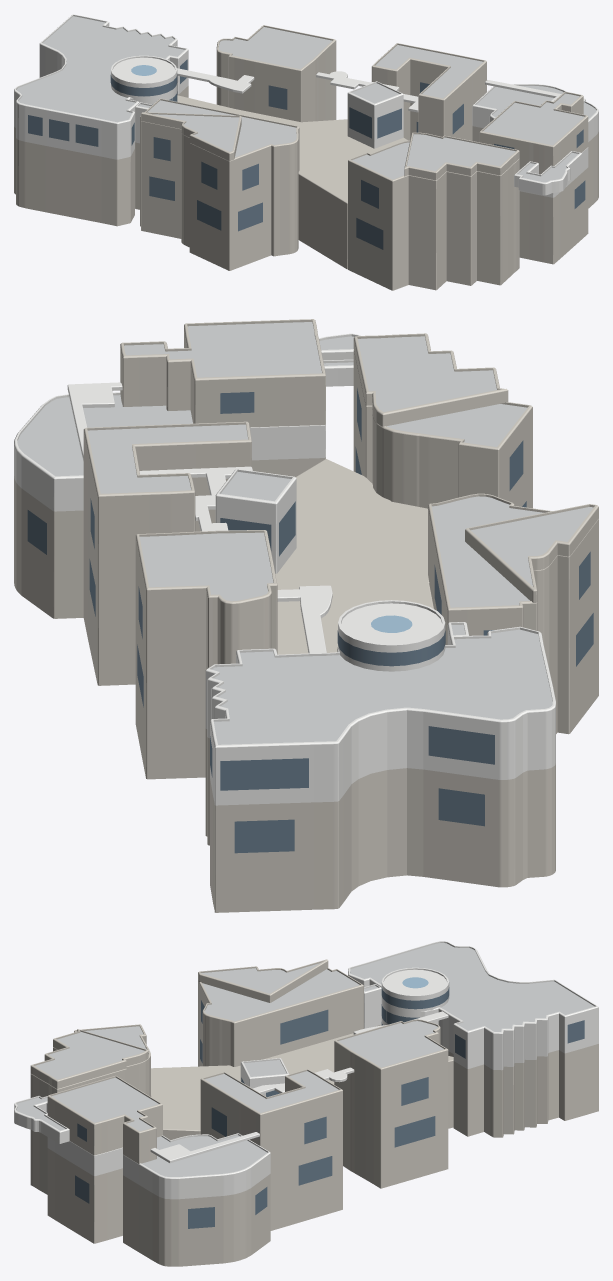
Rendered from la-getty-center.glb.
3 views of the same model, one above another, from view 1: azimuth 30°, elevation 25°; view 2: azimuth 150°, elevation 25°; view 3: azimuth 270°, elevation 25° (orthographic). The views are drawn at different scales.
Visible parts, largest first — view 1: Getty Center; view 2: Getty Center; view 3: Getty Center.
Boxes of the visible parts, x1=… form: Getty Center: x1=14, y1=14, x2=598, y2=290; Getty Center: x1=14, y1=319, x2=598, y2=912; Getty Center: x1=14, y1=941, x2=598, y2=1266.
Size of the model in its own units: 178 by 45.1 by 199.
